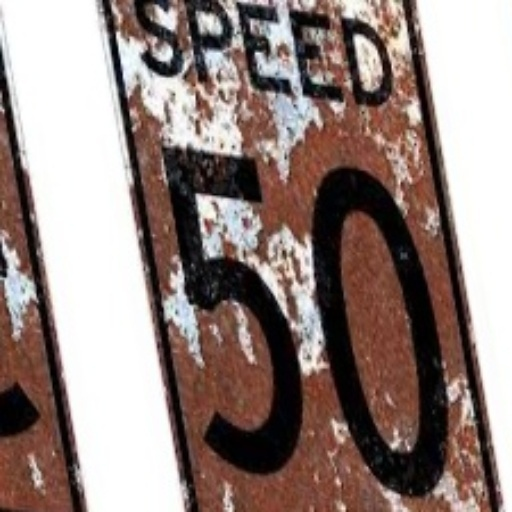Speed limit: (127, 0, 498, 496)
